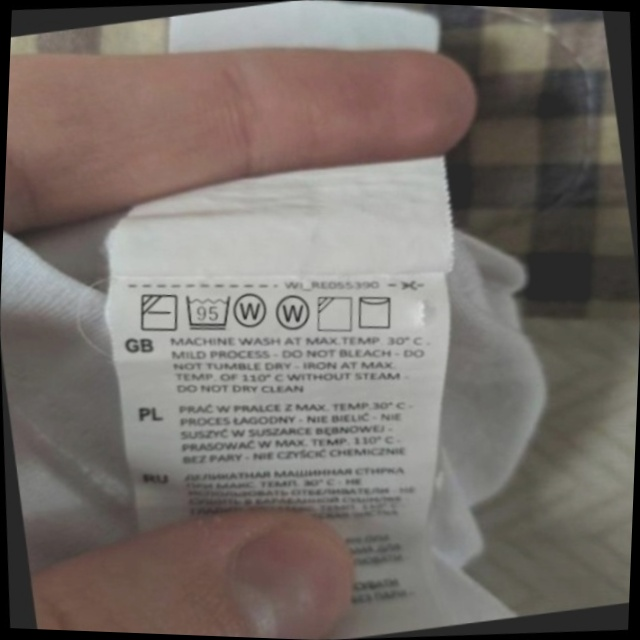95C: (177, 284, 239, 339)
dry_flat_in_shade: (131, 284, 186, 340)
line_dry: (349, 285, 402, 338)
shade_dry: (309, 287, 361, 340)
wet_clean: (227, 283, 277, 336), (268, 287, 318, 339)
